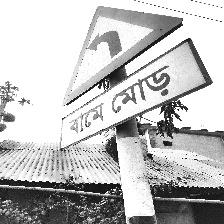Left-Turn: (61, 4, 213, 149)
